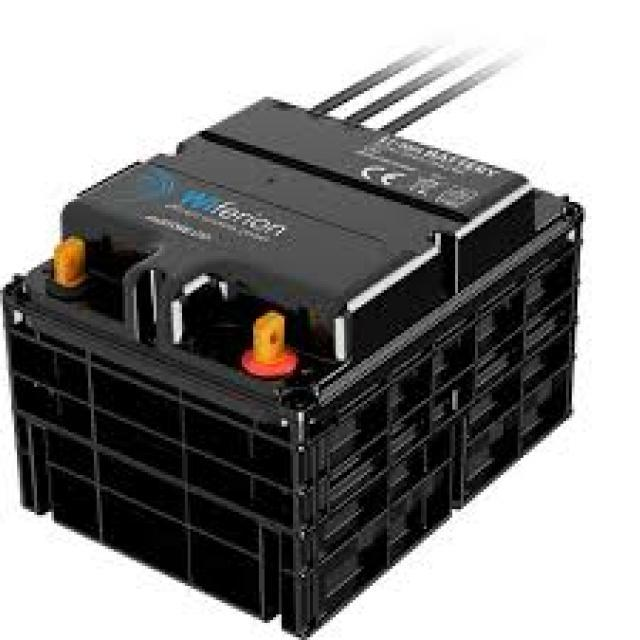battery: (0, 92, 586, 640)
